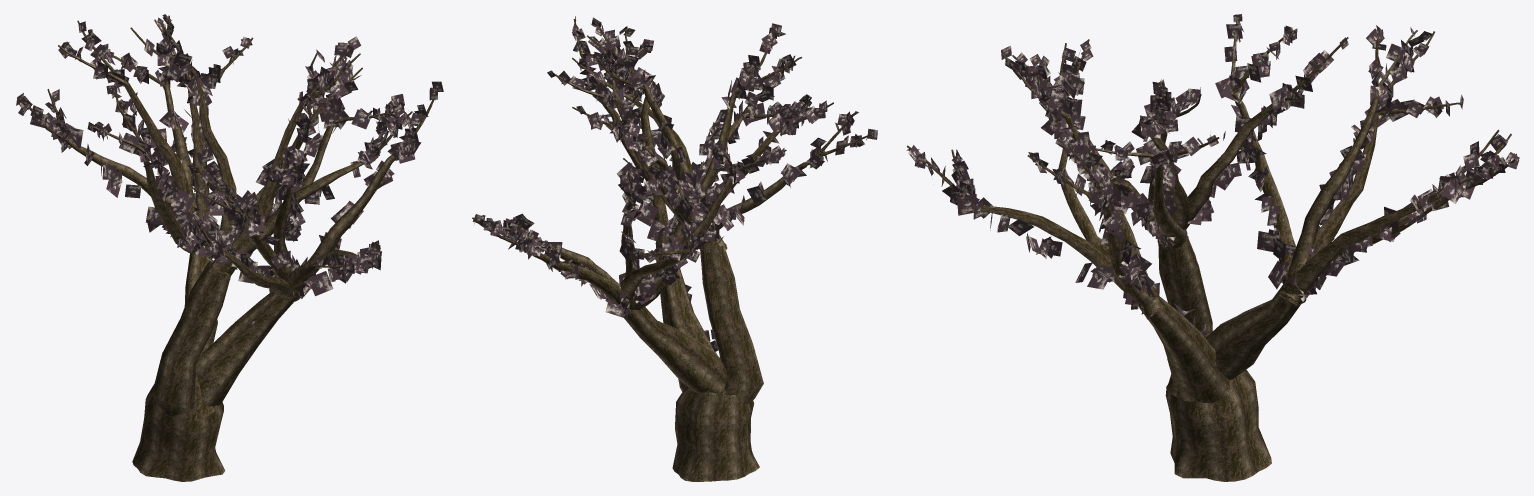
Rendered from blossom_4x_5.glb.
3 views of the same model, side by side, from view 1: azimuth 30°, elevation 25°; view 2: azimuth 150°, elevation 25°; view 3: azimuth 270°, elevation 25° (orthographic). The views are drawn at different scales.
Parts seen in each view (by area): view 1: blossom; view 2: blossom; view 3: blossom.
Part boxes in pixels (x1,y1,x2,y2): blossom: (16, 14, 443, 481); blossom: (472, 16, 877, 481); blossom: (906, 14, 1519, 481).
Size of the model in its own units: 50.34 by 66.72 by 79.61.
2 materials, 2 textured.
